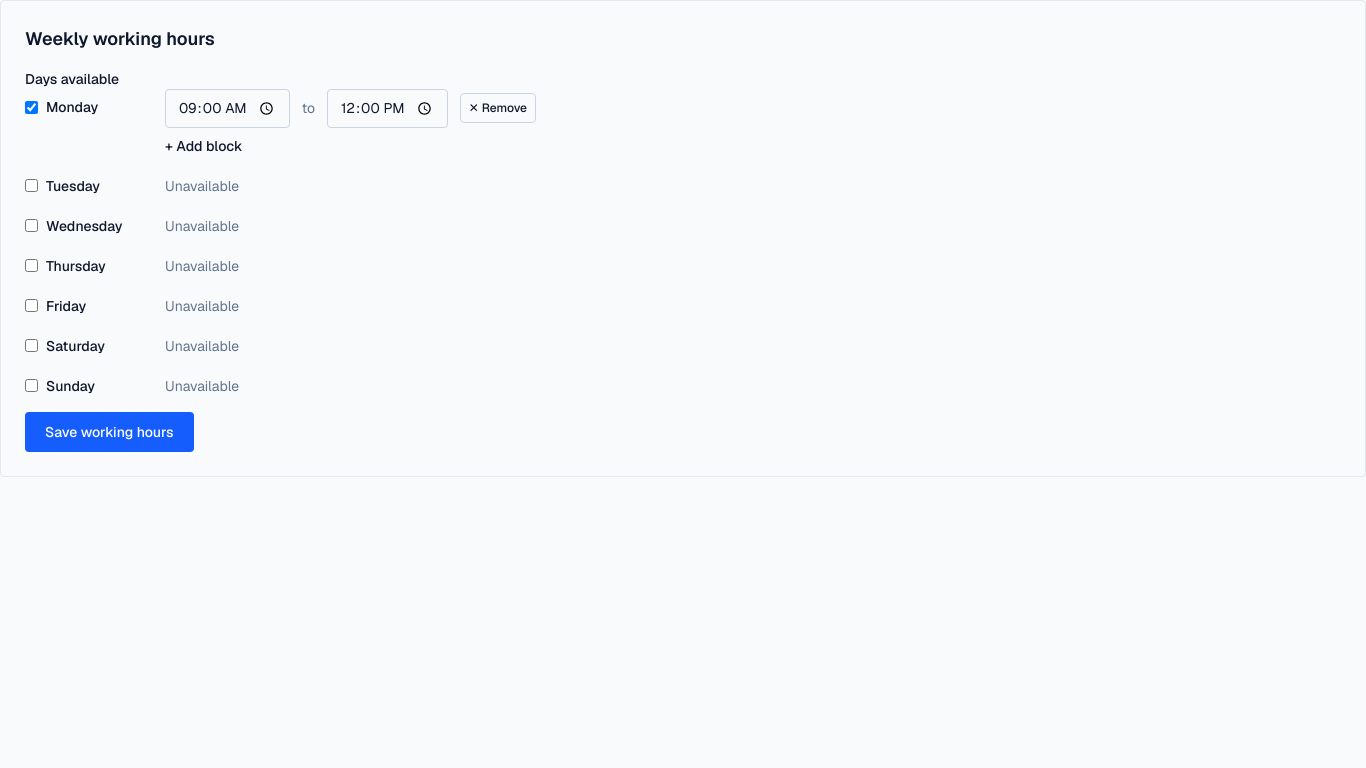
Test: WorkingHoursSection › '+ Add block' appends a block defaulting to one hour after the previous block's end
The width and height of the screenshot is (1366, 768).
What coordinates should you click on to do the following:
click the button with aria-label "add block to monday"
I would click on:
 (204, 146)
Its box is x1=165 y1=136 x2=243 y2=156.
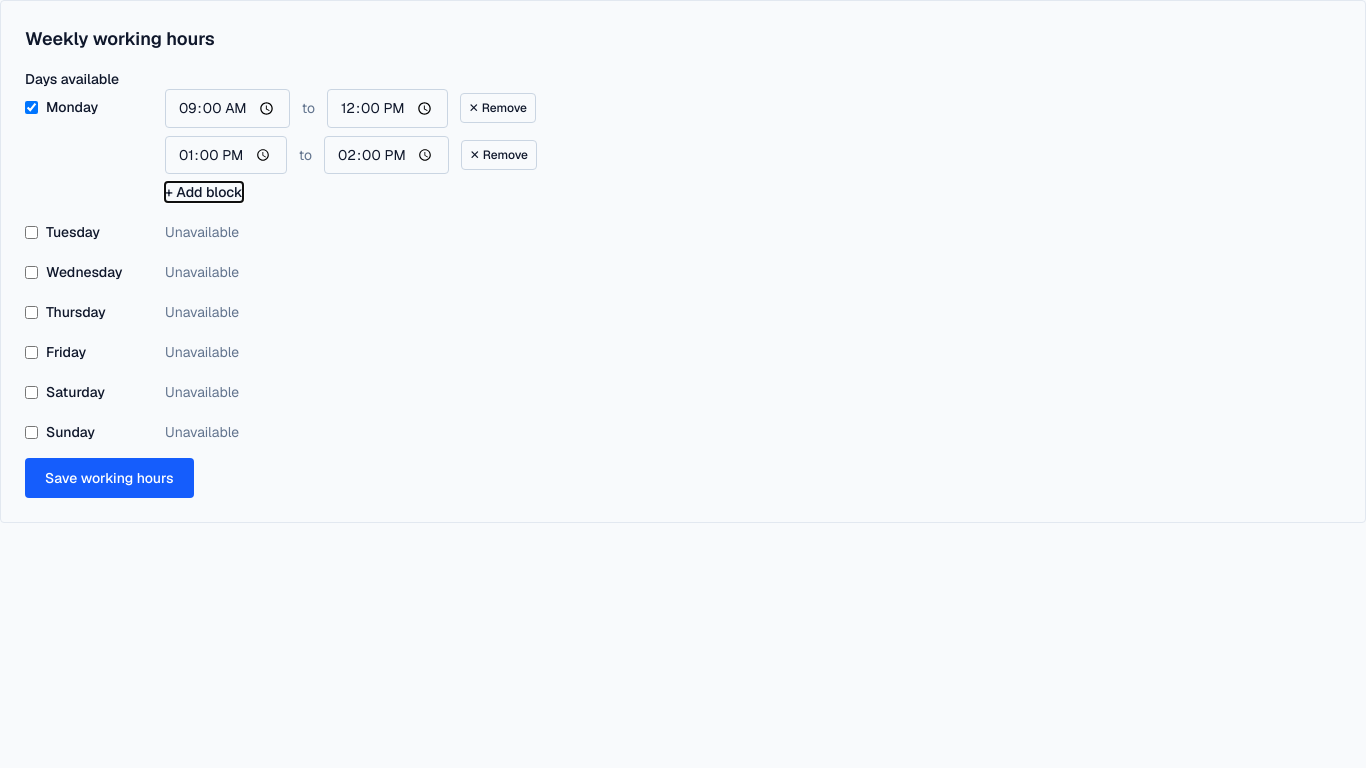
Result: the 3rd time field named "Monday block 2 start time" holds "13:00" at x1=165 y1=136 x2=287 y2=174
Result: the 4th time field named "Monday block 2 end time" holds "14:00" at x1=324 y1=136 x2=449 y2=174
